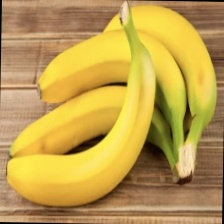banana: (29, 32, 174, 216)
